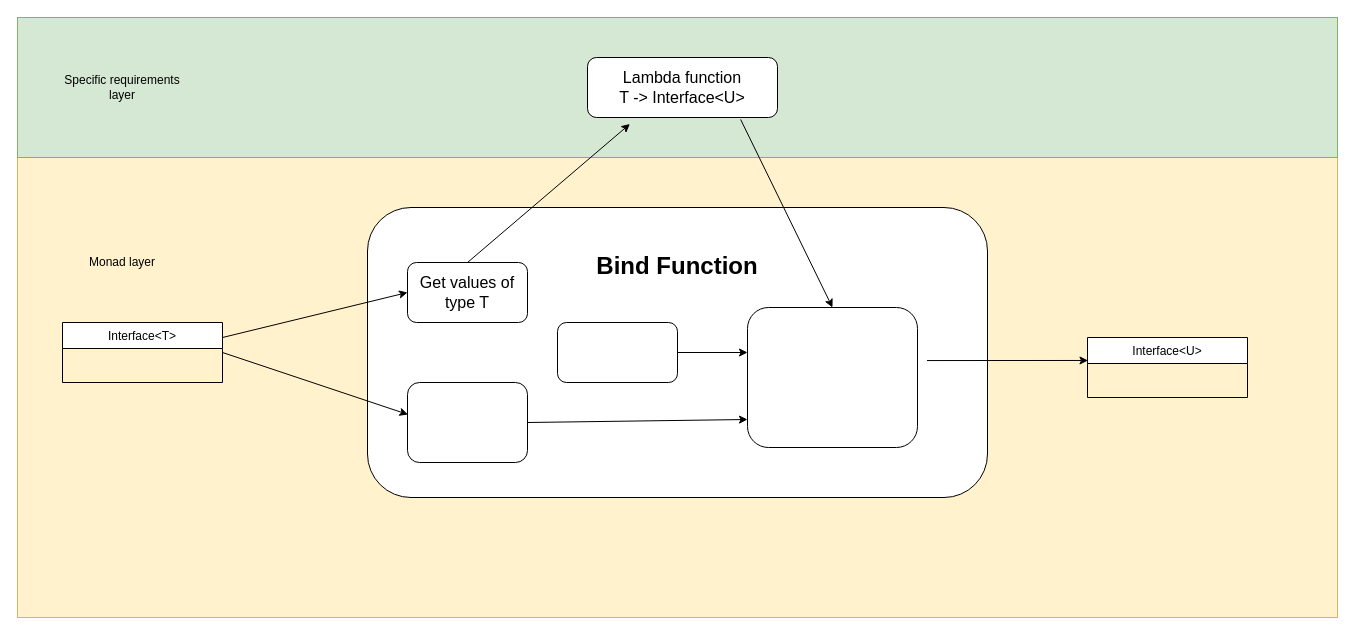
Image size: 1355x635. Some labels were removed from this diagram. Each missing label, with the box of its shape:
Combine output of function and piped through capability in the new Interface<U>: (746, 306, 918, 448)
Create a new Interface<U>: (556, 322, 678, 382)
Pipe through any capabilities the interface has: (406, 382, 528, 462)
